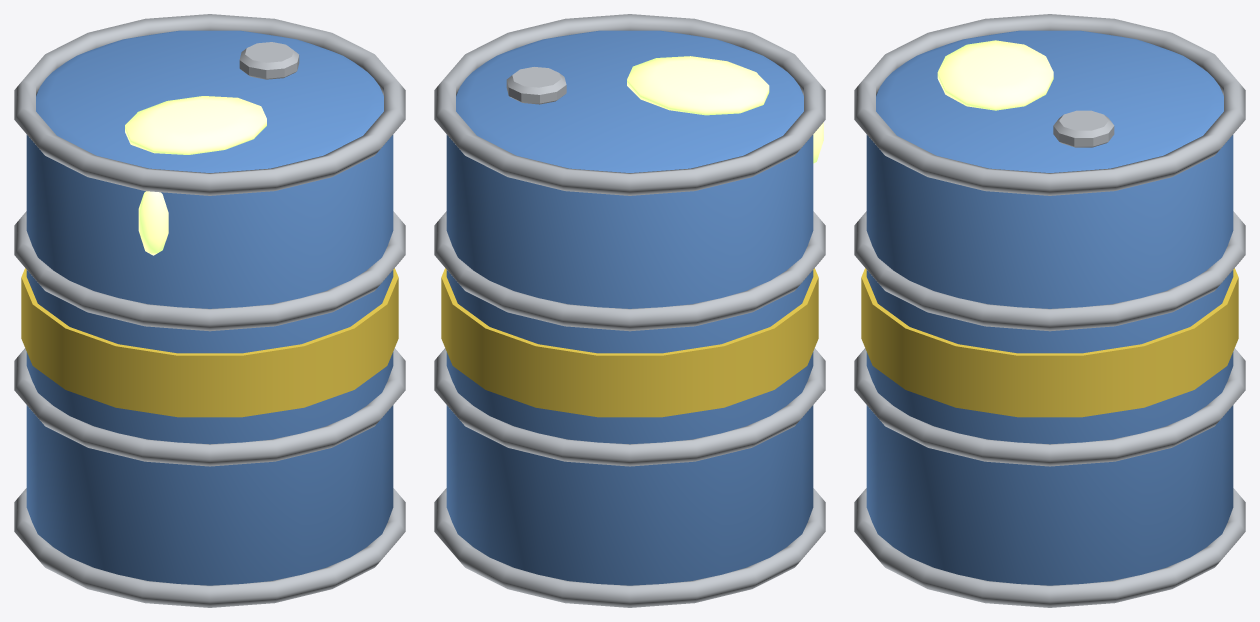
File: barrel.glb
The picture shows the model from 3 angles, left to right: view 1: azimuth 30°, elevation 25°; view 2: azimuth 150°, elevation 25°; view 3: azimuth 270°, elevation 25°; orthographic projection.
Parts seen in each view (by area): view 1: barrel; view 2: barrel; view 3: barrel.
Boxes of the visible parts, x1,y1,x2,y2 form: barrel: (14, 14, 405, 607); barrel: (434, 14, 825, 607); barrel: (854, 14, 1245, 607).
Size of the model in its own units: 0.586 by 0.725 by 0.5771.
